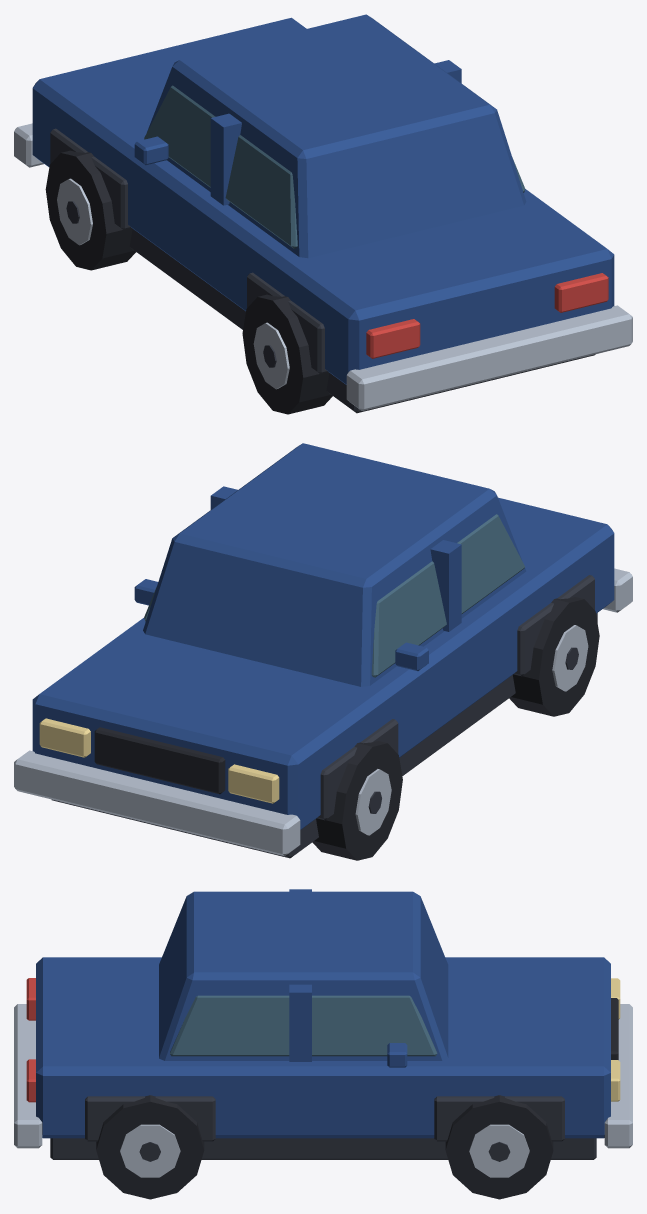
The model's file is Stylized_Vehicle_Sedan.fbx.
3 renders of one model, top to bottom at view 1: azimuth 30°, elevation 25°; view 2: azimuth 150°, elevation 25°; view 3: azimuth 270°, elevation 25°, orthographic. The views are drawn at different scales.
Visible parts, largest first — view 1: Stylized_Vehicle_Sedan; view 2: Stylized_Vehicle_Sedan; view 3: Stylized_Vehicle_Sedan.
Boxes of the visible parts, left/top/right/bottom form: Stylized_Vehicle_Sedan: left=14, top=14, right=632, bottom=414; Stylized_Vehicle_Sedan: left=14, top=443, right=632, bottom=860; Stylized_Vehicle_Sedan: left=14, top=889, right=632, bottom=1199.
Bounding box in the file's own units: 2.19 × 1.58 × 4.36.
